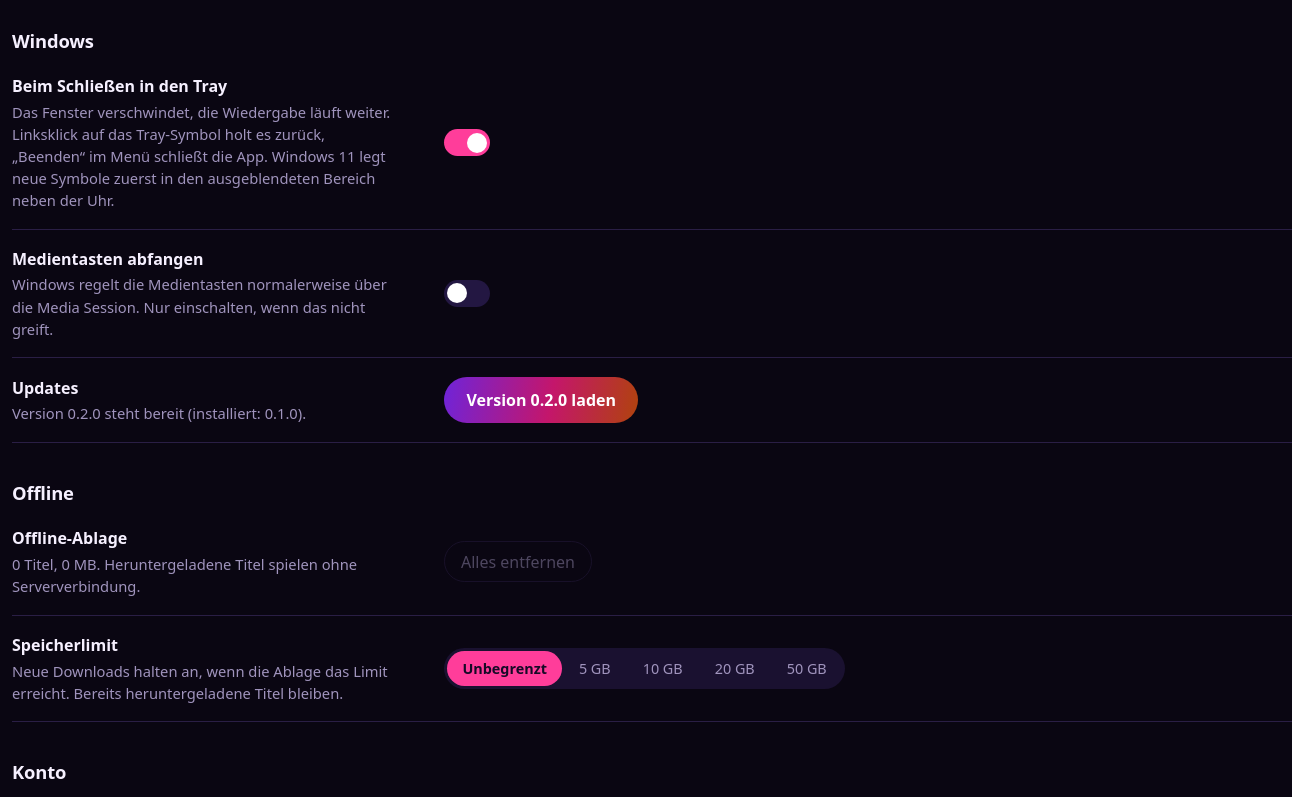
Test: Update-Ablauf › meldet einen fehlgeschlagenen Download und bietet das Laden erneut an
The image size is (1292, 797).
(page scrolled)
Click the button "Version 0.2.0 laden": point(541, 400) [444,377,638,423]
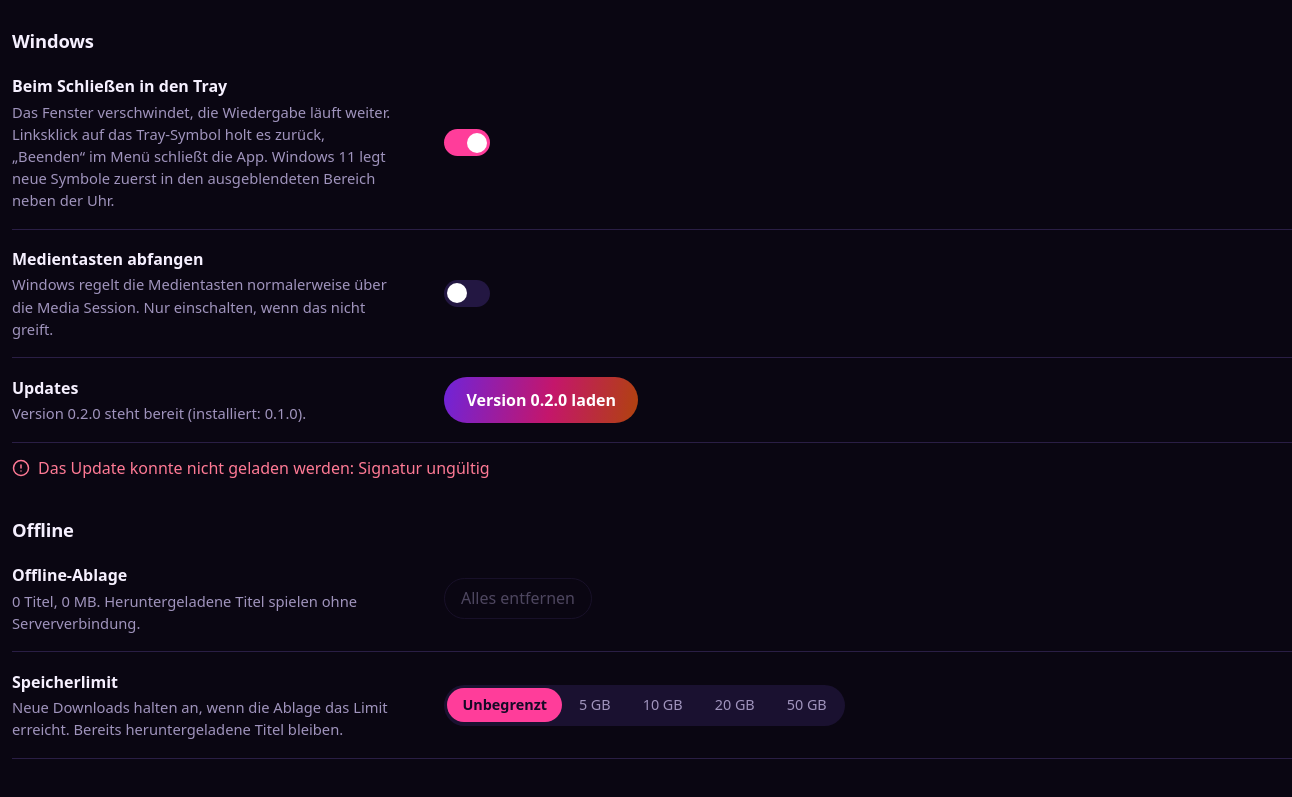
Expected: the message shows "Signatur ungültig", [38,457,490,479]
